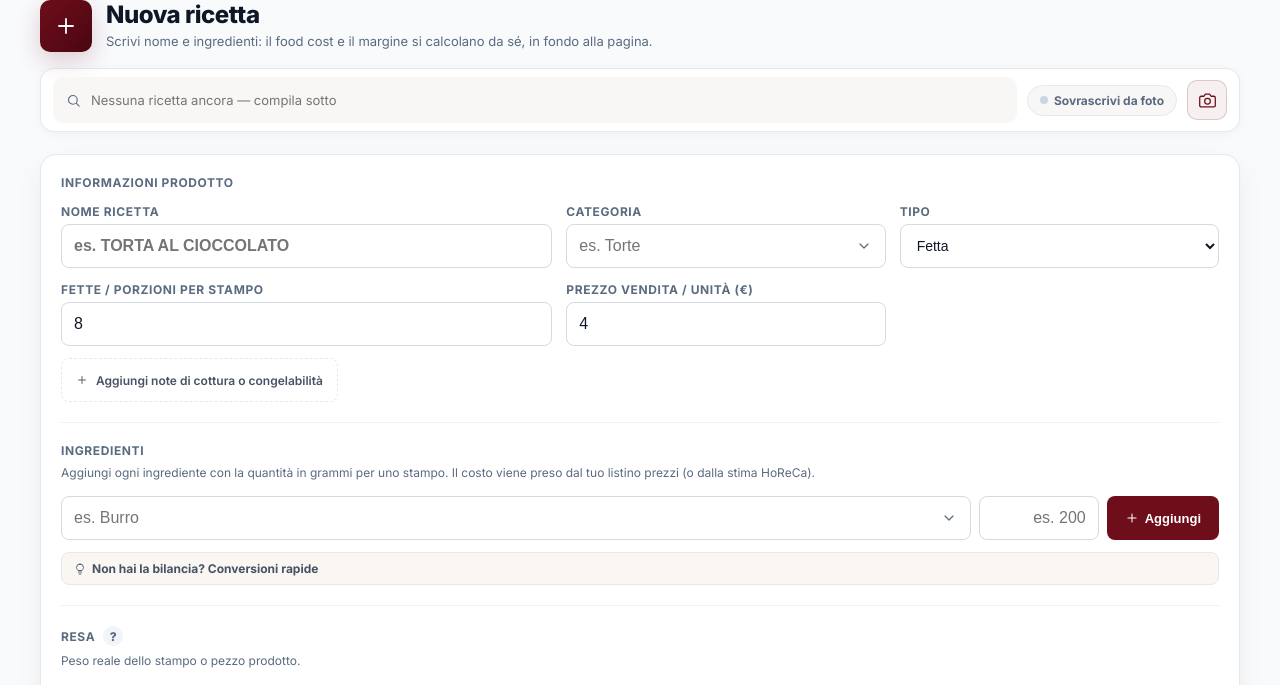
Test case: Nuova Ricetta - onesta del verdetto › con tutti i prezzi a posto il verdetto verde torna a comparire
Type "burro" into the dropdown named "nome ingrediente da aggiungere" at [516, 518], box 61,496 -> 971,540
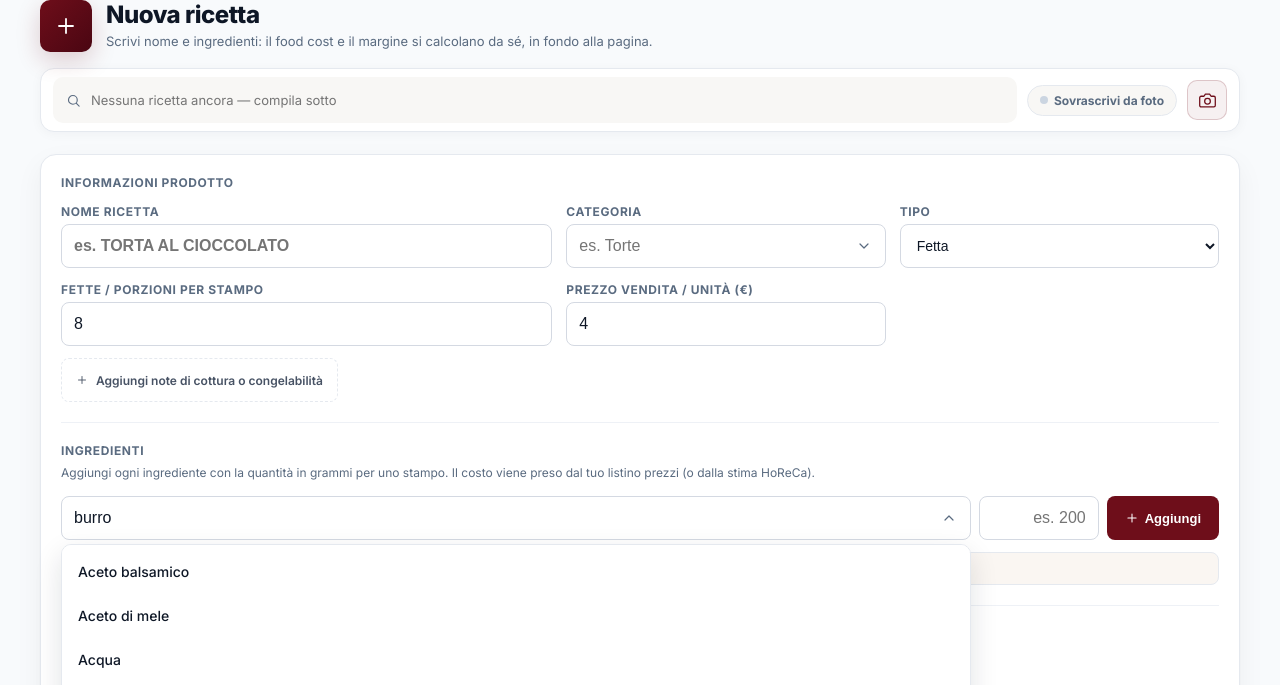
Type "100" into the field named "grammi di ingrediente da aggiungere" at [1039, 518], box 979,496 -> 1099,540
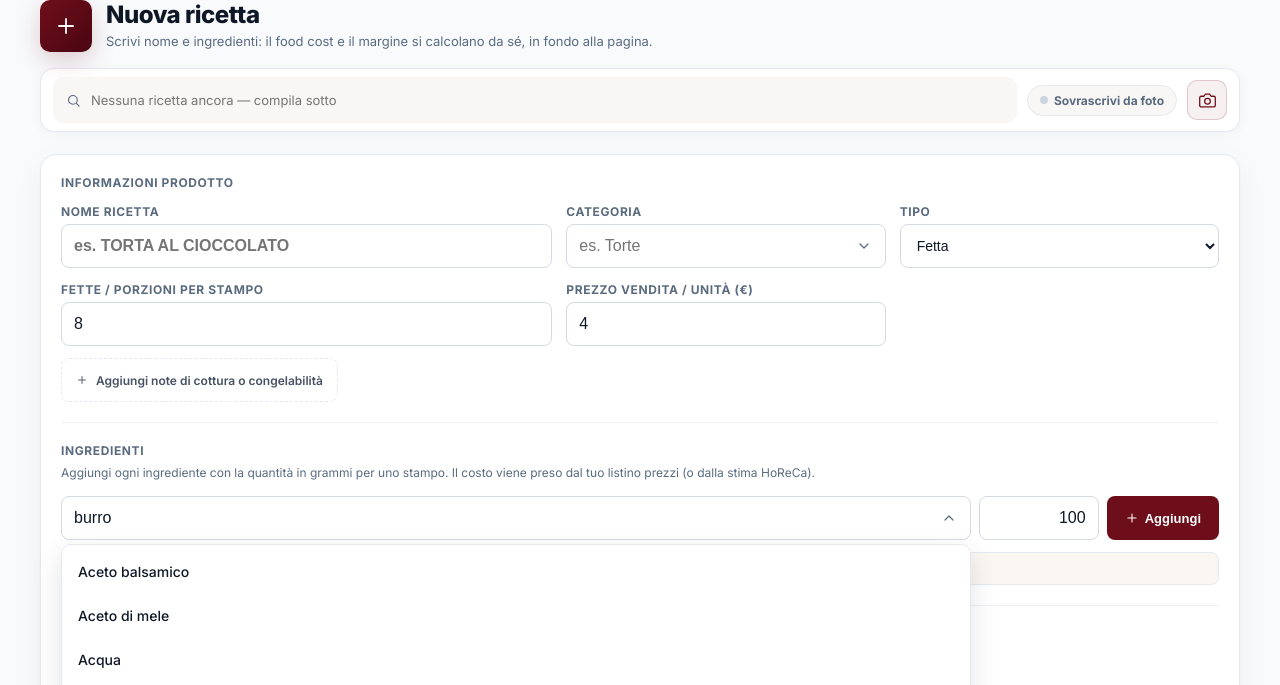
Click the button with aria-label "Aggiungi ingrediente alla ricetta" at [1163, 518], box 1107,496 -> 1219,540
(page scrolled)
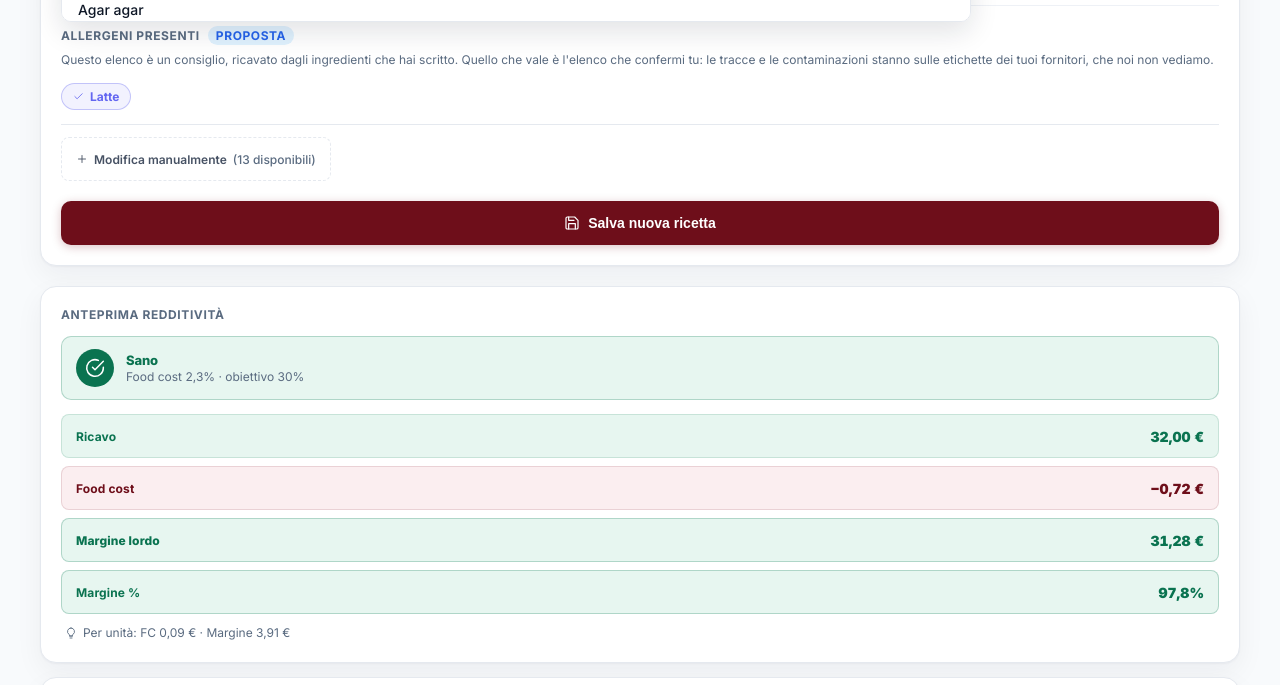
expect the text "Sano" is shown: met, box 126,352 -> 158,368
